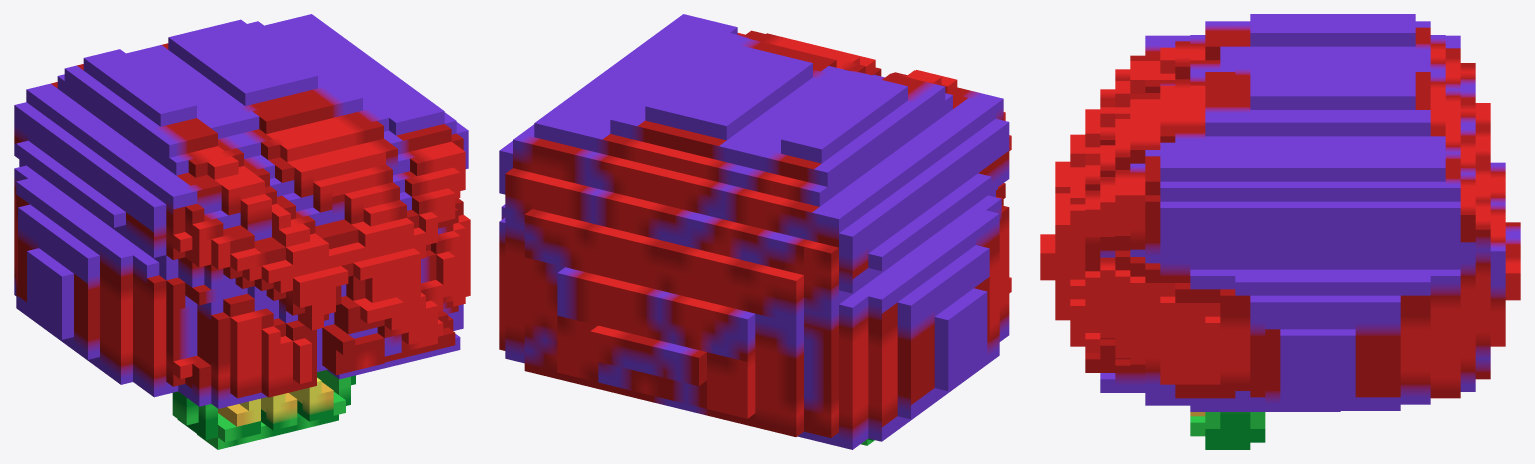
File: Matrix_3.fbx
3 views of the same model, side by side, from view 1: azimuth 30°, elevation 25°; view 2: azimuth 150°, elevation 25°; view 3: azimuth 270°, elevation 25° (orthographic). The views are drawn at different scales.
Visible parts, largest first — view 1: Matrix_3; view 2: Matrix_3; view 3: Matrix_3.
Part boxes in pixels (left/top/right/bottom): Matrix_3: left=14, top=14, right=470, bottom=449; Matrix_3: left=499, top=14, right=1011, bottom=449; Matrix_3: left=1040, top=14, right=1520, bottom=449.
Bounding box in the file's own units: 32 × 26 × 32.
